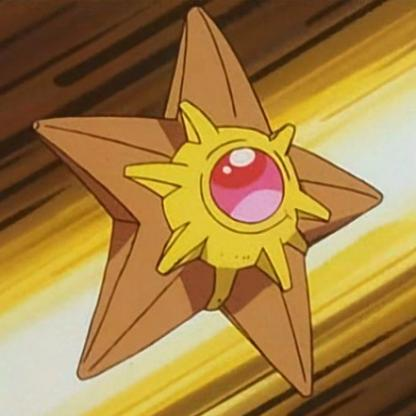Staryu: (45, 3, 388, 404)
